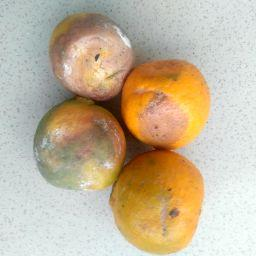orange: (108, 148, 205, 255), (32, 94, 129, 192), (118, 59, 212, 151), (49, 11, 136, 102)
